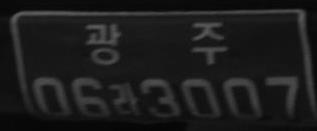0: (222, 76, 262, 121), (30, 75, 72, 116), (181, 78, 220, 118)
3: (140, 78, 181, 117)
6: (72, 76, 110, 118)
7: (263, 75, 301, 123)
광주_D: (84, 20, 229, 64)
라: (110, 81, 140, 117)
